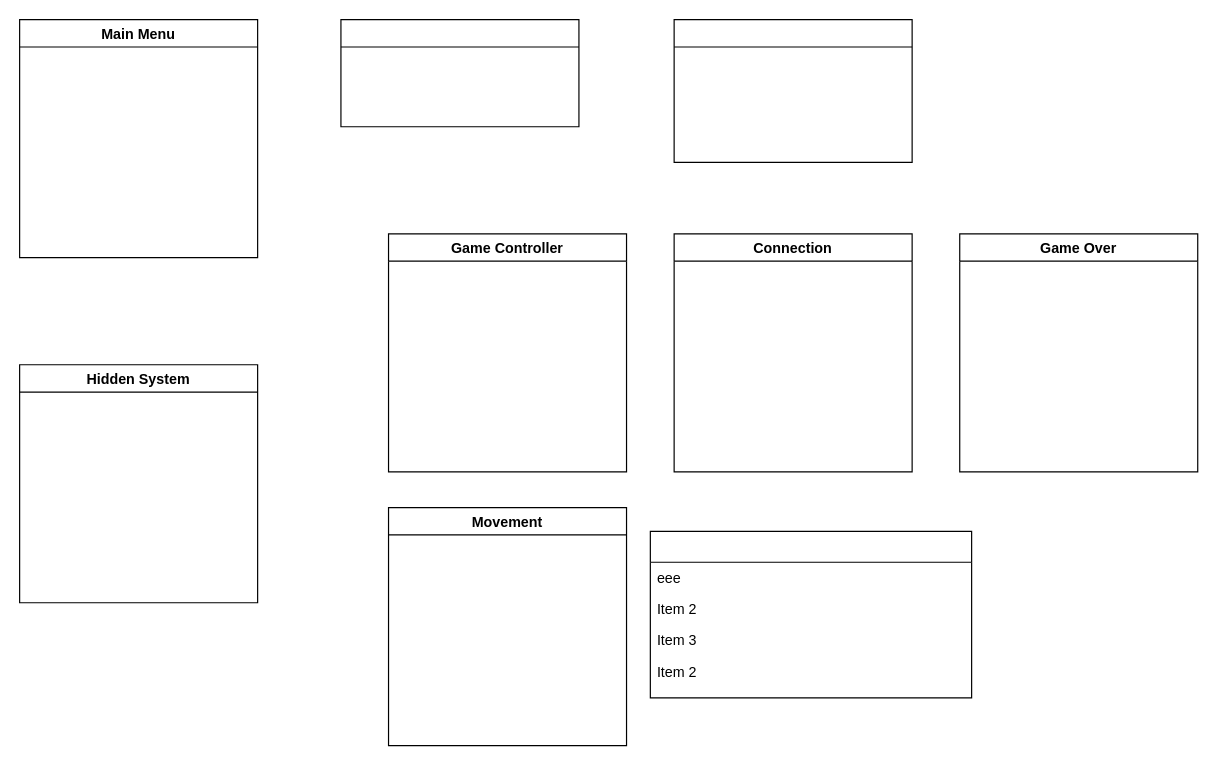
This 1217x765 diagram has some shape labels left out. The box of each missing label's shape, as (x1, y1, x2, y2) in pixels:
List: (649, 530, 972, 698)
Music Background: (340, 18, 579, 127)
Piece Controller: (673, 18, 912, 162)
